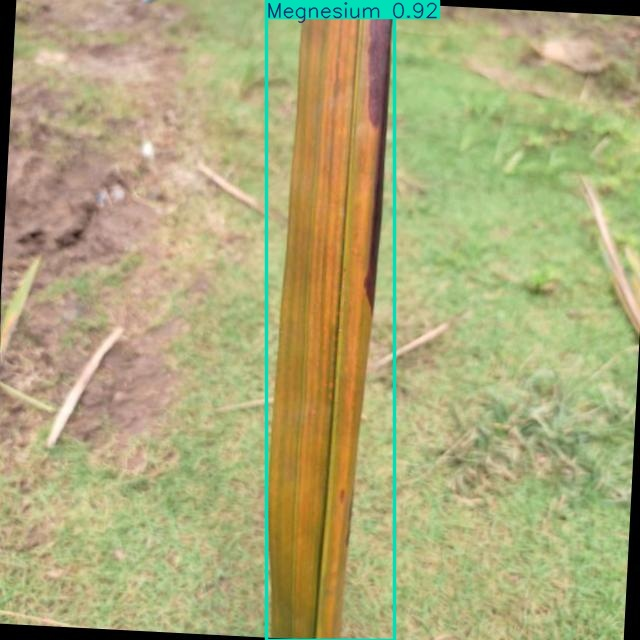Megnesium: (267, 1, 395, 640)
